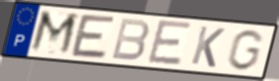B: (109, 17, 151, 63)
E: (145, 18, 194, 67), (69, 13, 118, 61)
G: (224, 28, 266, 72)
K: (188, 25, 227, 70)
M: (27, 9, 82, 58)
